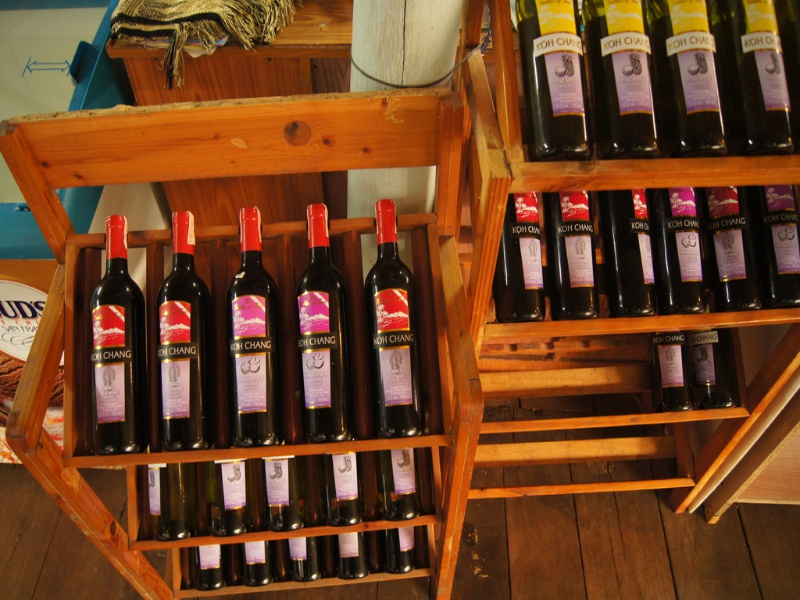wine: (81, 208, 434, 579), (491, 1, 800, 415)
